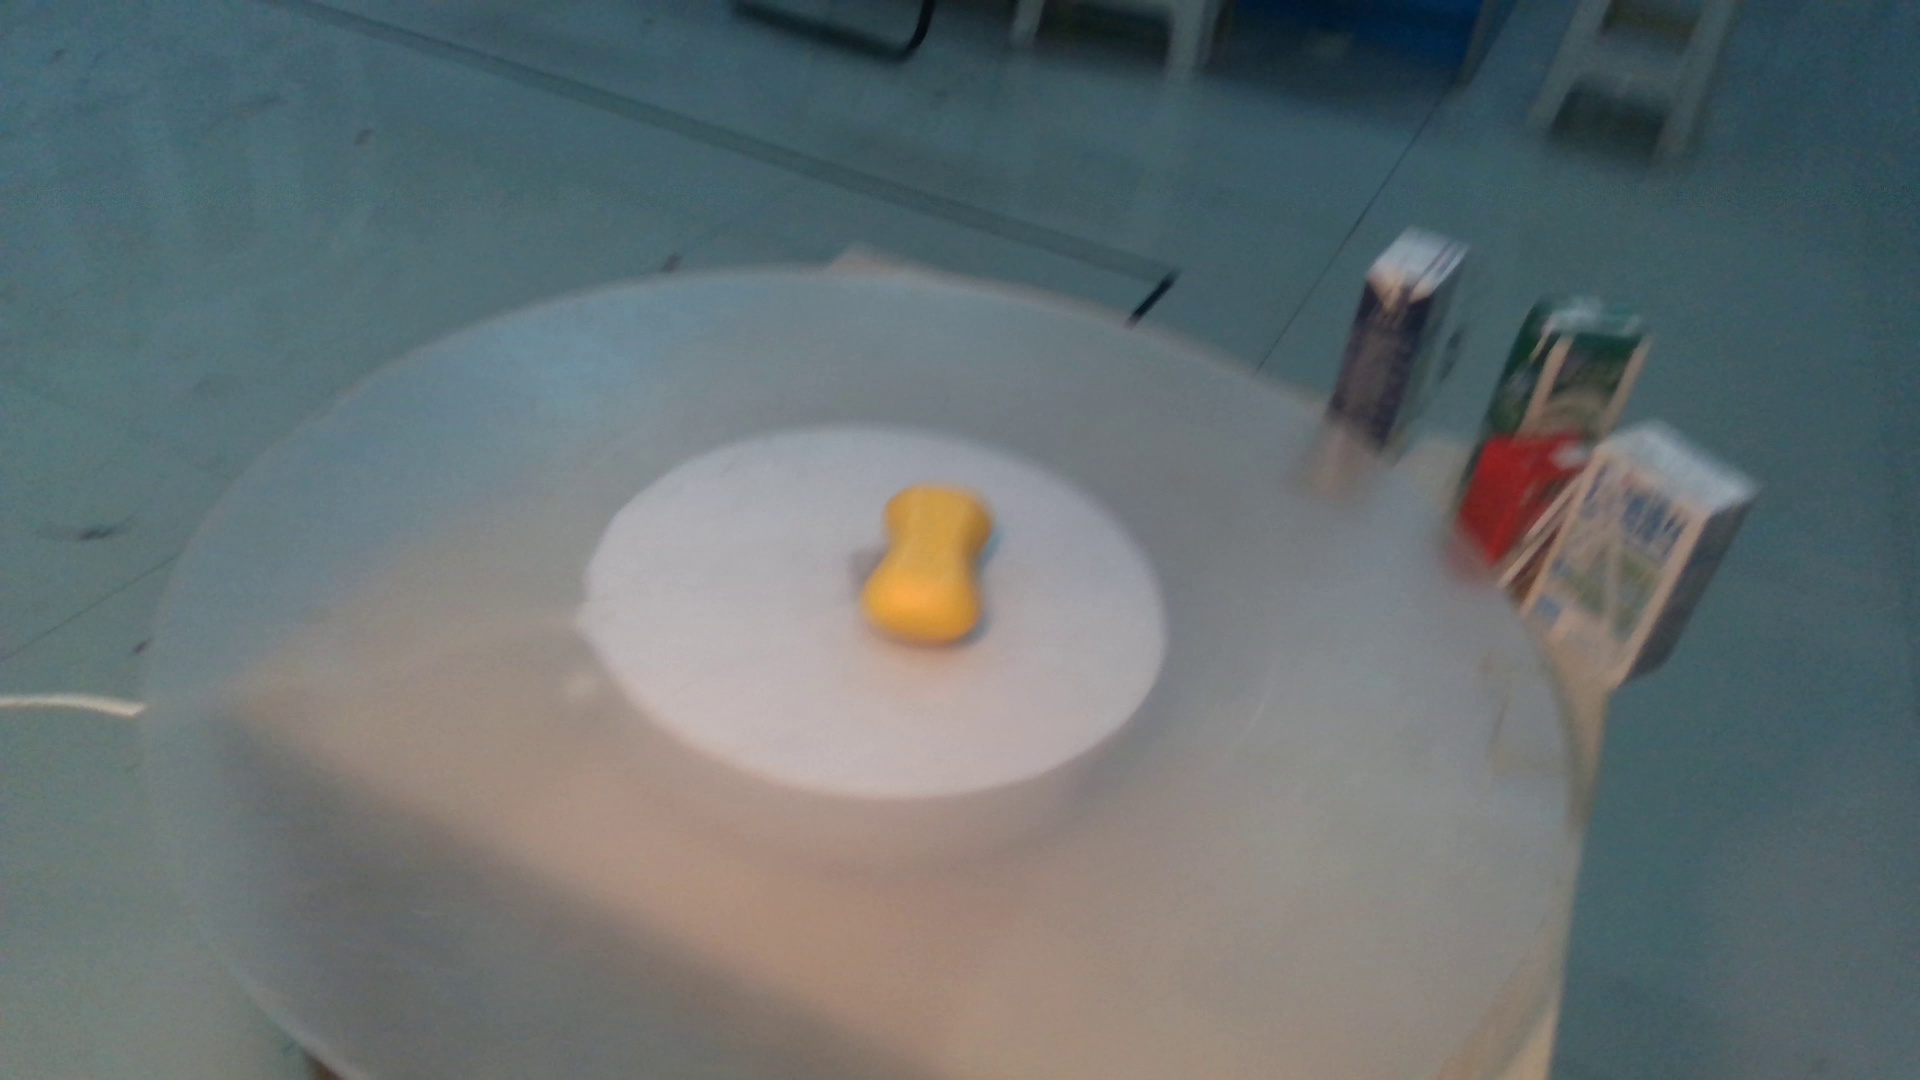CA003_1: (829, 479, 1011, 655)
